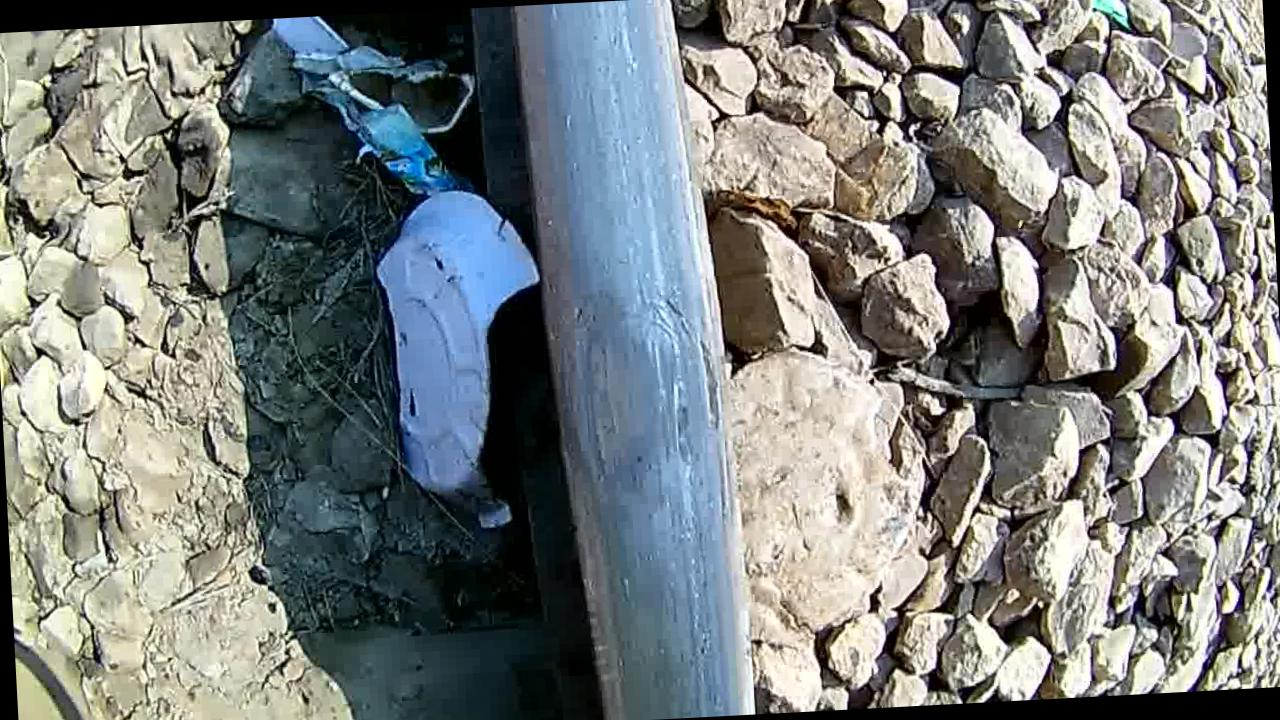bolt_missing: (540, 211, 730, 580)
